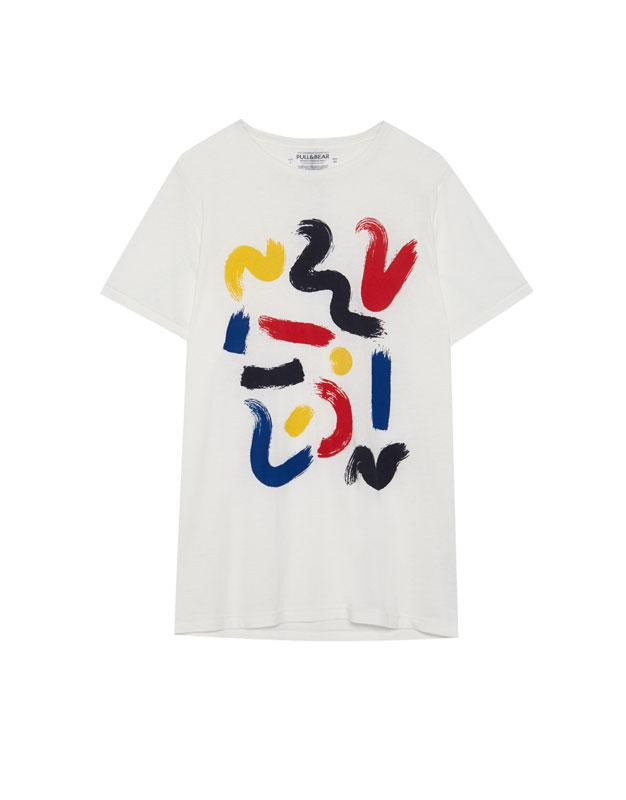teeshirt: (102, 95, 586, 673)
